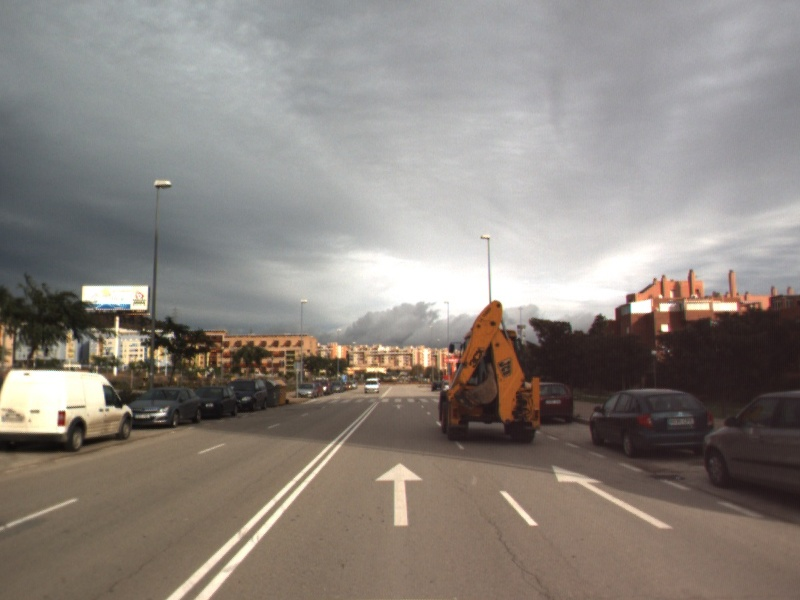STRAIGHT: (550, 463, 675, 531), (373, 460, 425, 528)
